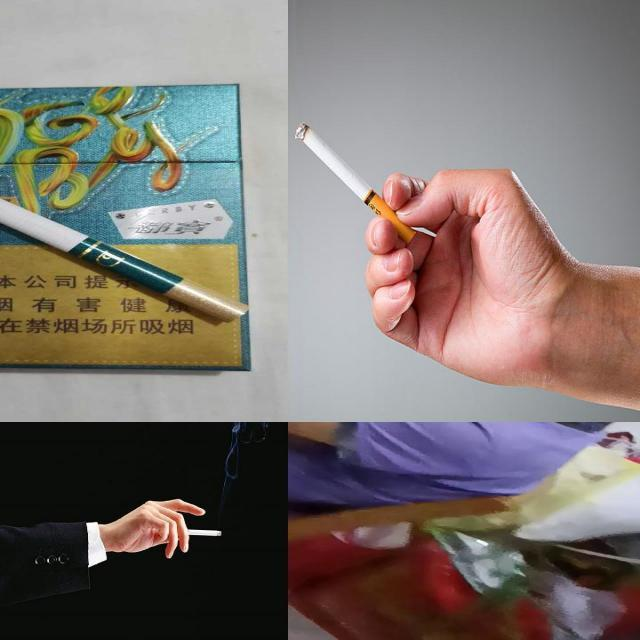smoke: (297, 120, 578, 390), (0, 139, 253, 324), (100, 490, 225, 560)
